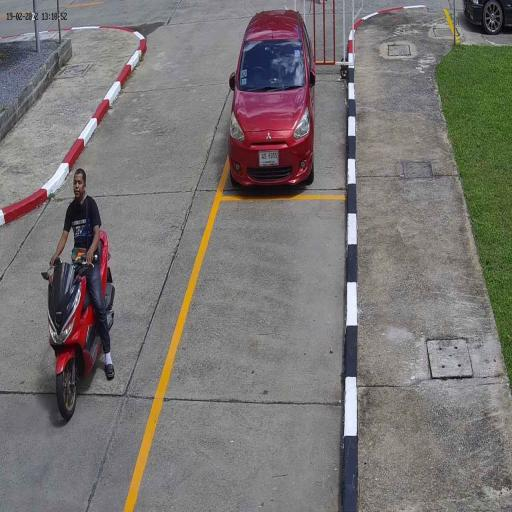car: (228, 8, 316, 190)
motorcycle: (45, 263, 116, 425)
